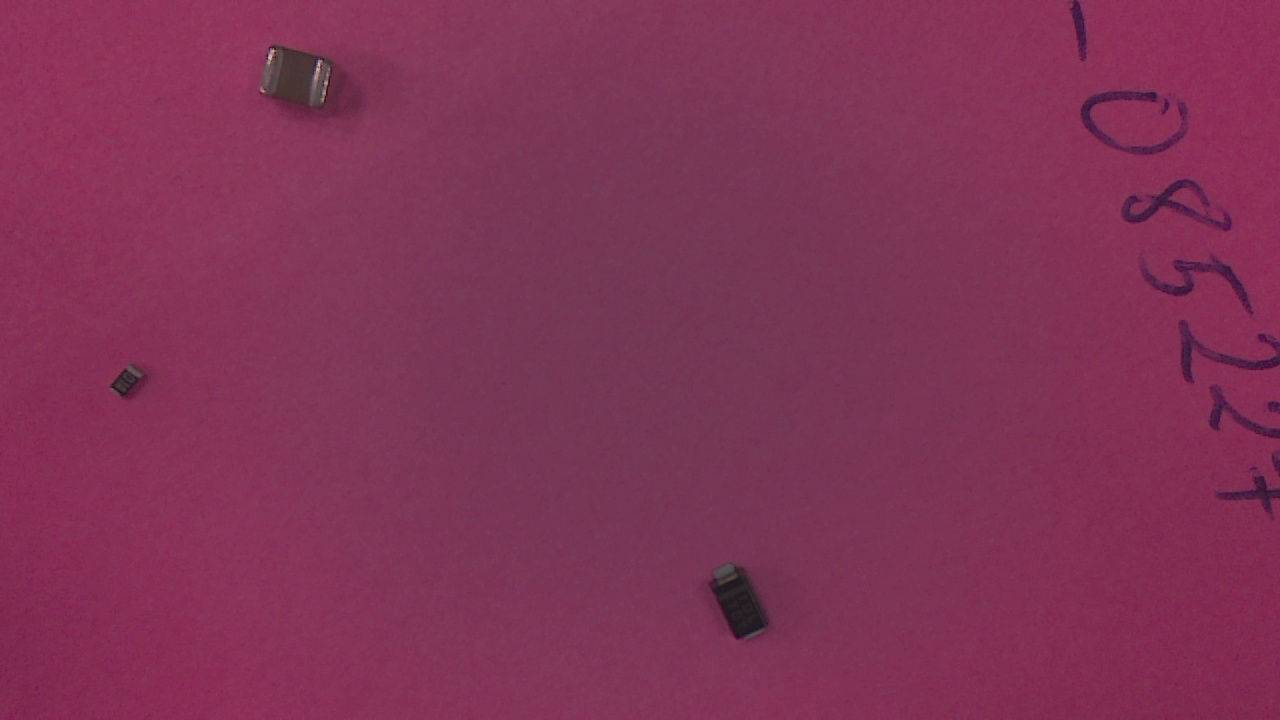Condensator: (258, 45, 342, 121)
Diode: (707, 568, 778, 644)
Resistor: (115, 367, 152, 404)
